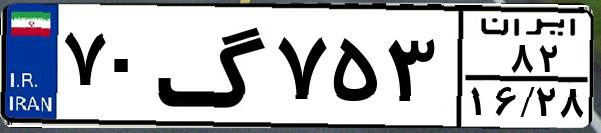0: (110, 28, 156, 98)
1: (470, 70, 495, 125)
2: (537, 27, 568, 80), (535, 70, 560, 125)
3: (385, 28, 445, 110)
5: (330, 28, 385, 110)
6: (495, 70, 520, 125)
7: (270, 28, 330, 110), (57, 26, 110, 100)
8: (560, 70, 590, 125), (508, 27, 537, 80)
گ: (156, 12, 270, 120)
